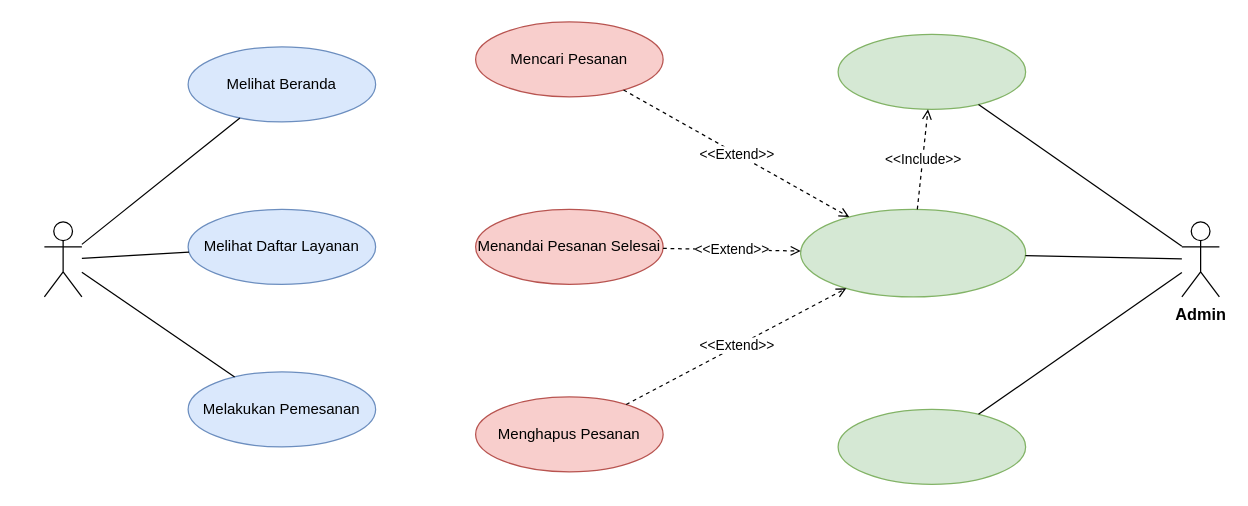
The diagram is 1248 pixels wide and 506 high, and some of its shapes have lost their labels. Here are the shapes that lost their labels. From the top down, the centre of each, then its label:
pixel 931 71: Login Admin
pixel 62 259: Pelanggan
pixel 912 252: Mengelola Data Pesanan
pixel 931 446: Logout
